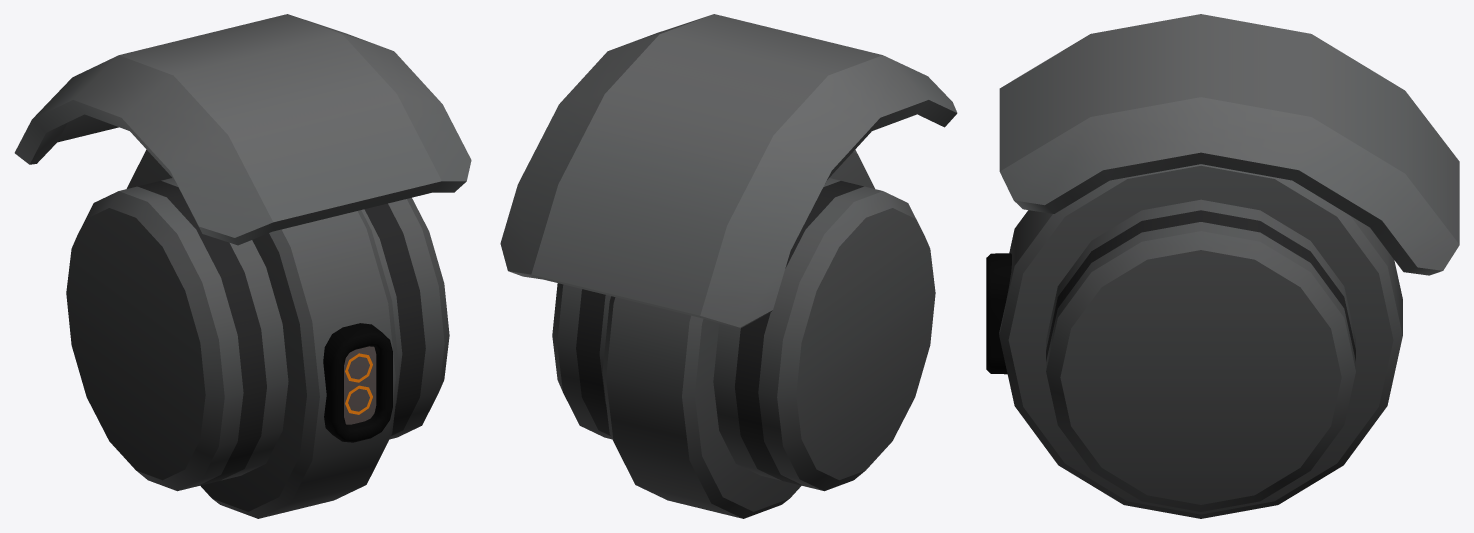
Rendered from Delivery_drone_007.fbx.
3 renders of one model, left to right at view 1: azimuth 30°, elevation 25°; view 2: azimuth 150°, elevation 25°; view 3: azimuth 270°, elevation 25°, orthographic.
Parts seen in each view (by area): view 1: Delivery_drone_007; view 2: Delivery_drone_007; view 3: Delivery_drone_007.
Boxes of the visible parts, bbox=[...] form: Delivery_drone_007: bbox=[14, 14, 471, 518]; Delivery_drone_007: bbox=[500, 14, 957, 518]; Delivery_drone_007: bbox=[986, 14, 1459, 518].
Size of the model in its own units: 47.71 by 71.08 by 73.65.
